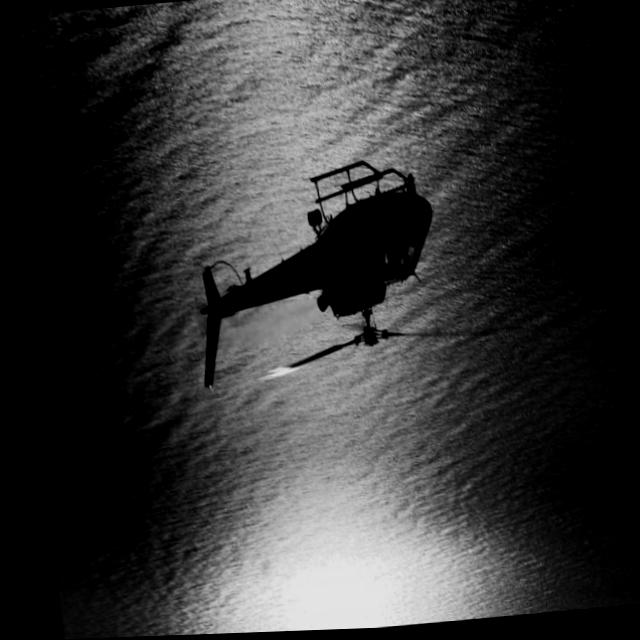helikopter: (170, 136, 481, 419)
